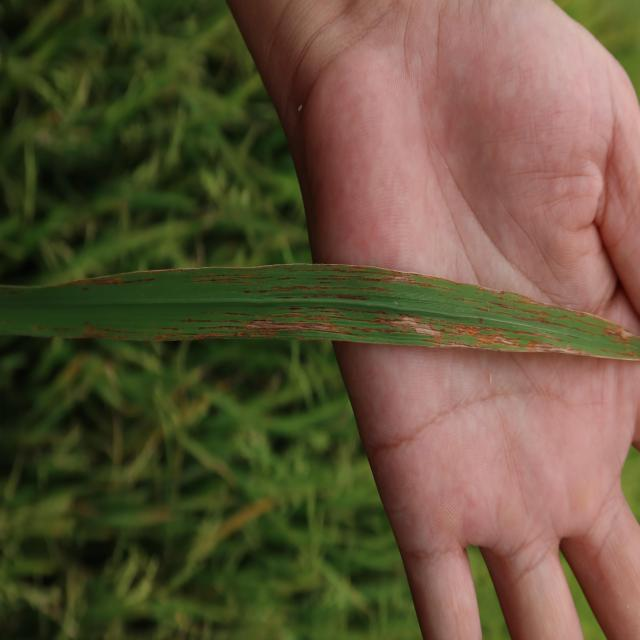Dom soc vi khuan: (246, 318, 343, 335), (388, 313, 442, 340), (531, 341, 579, 354), (605, 326, 638, 341), (391, 270, 414, 286), (497, 335, 515, 344)
